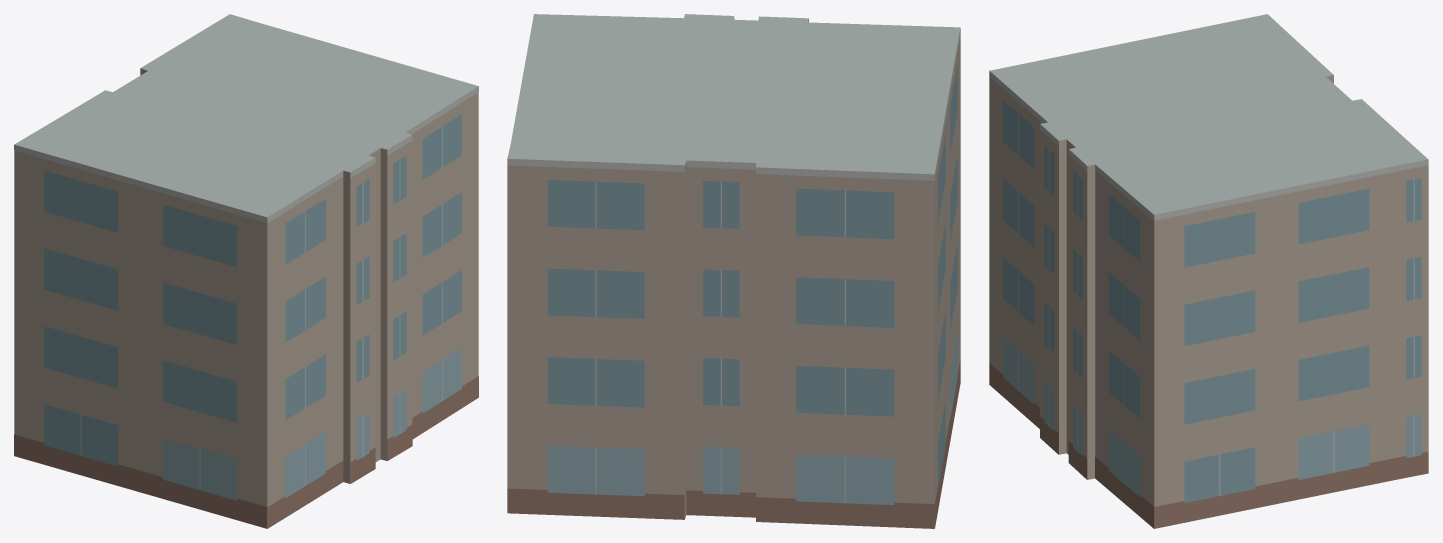
File: survey-upis-32738297.glb
3 renders of one model, left to right at view 1: azimuth 30°, elevation 25°; view 2: azimuth 150°, elevation 25°; view 3: azimuth 270°, elevation 25°, orthographic. The views are drawn at different scales.
Visible parts, largest first — view 1: survey-upis-32738297.tmp; view 2: survey-upis-32738297.tmp; view 3: survey-upis-32738297.tmp.
Boxes of the visible parts, x1,y1,x2,y2 form: survey-upis-32738297.tmp: [14, 14, 478, 528]; survey-upis-32738297.tmp: [507, 14, 960, 528]; survey-upis-32738297.tmp: [989, 14, 1428, 528].
Bounding box in the file's own units: 17.92 × 13.05 × 16.55.
